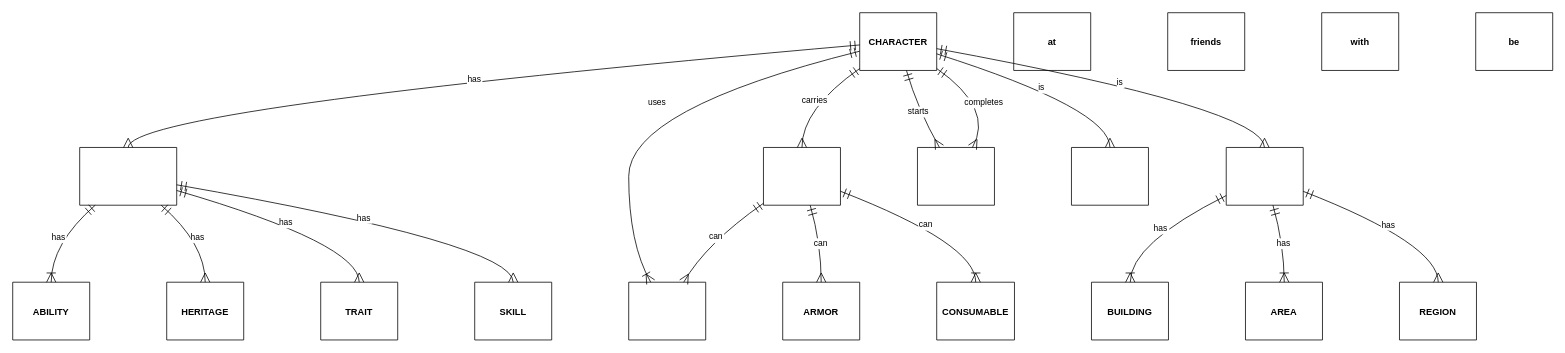
This 1565x353 diagram has some shape labels left out. The shapes that lost their labels are listed below. From the top down, each one's centre as x and y in pixels, then its label:
the point at 128,176: CHARACTERISTICS
the point at 801,176: ITEM
the point at 955,176: QUEST
the point at 1109,176: FRIEND
the point at 1264,176: LOCATION
the point at 667,310: WEAPON
